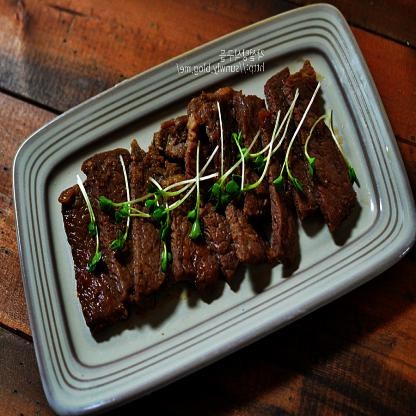Carne: (289, 62, 354, 239), (61, 186, 121, 336), (162, 111, 212, 285), (222, 90, 268, 274), (122, 142, 168, 305), (198, 100, 230, 283), (269, 68, 308, 218), (102, 142, 136, 305), (266, 126, 294, 274)
